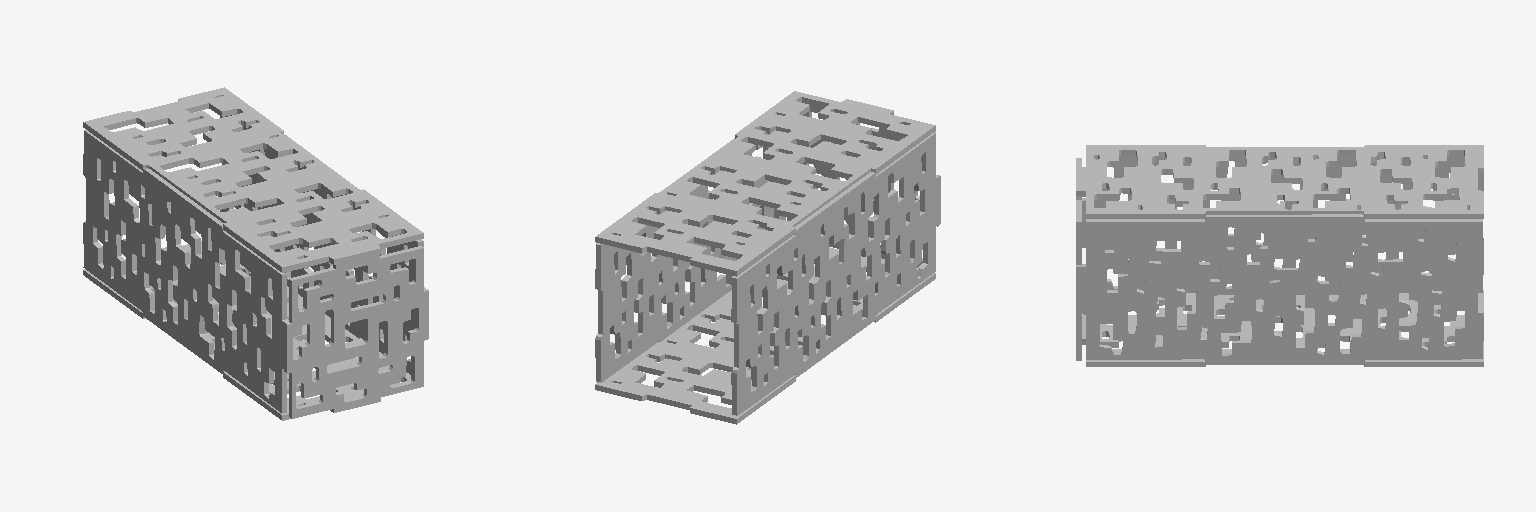
File: lampe_STI2D.obj
The picture shows the model from 3 angles: view 1: azimuth 30°, elevation 25°; view 2: azimuth 150°, elevation 25°; view 3: azimuth 270°, elevation 25°; orthographic projection.
Visible parts, largest first — view 1: Object.5, Object.3, Object.2, Object.1, Object.4; view 2: Object.5, Object.3, Object.4, Object.1, Object.2; view 3: Object.4, Object.3, Object.5, Object.1, Object.2.
Part boxes in pixels (bbox=[...]): Object.5: bbox=[83, 130, 291, 413]; Object.3: bbox=[83, 87, 423, 272]; Object.2: bbox=[284, 246, 428, 418]; Object.1: bbox=[83, 241, 410, 420]; Object.4: bbox=[220, 114, 428, 374]; Object.5: bbox=[731, 133, 940, 416]; Object.3: bbox=[595, 91, 935, 276]; Object.4: bbox=[595, 133, 801, 383]; Object.1: bbox=[595, 247, 935, 424]; Object.2: bbox=[802, 103, 940, 267]; Object.4: bbox=[1076, 214, 1483, 363]; Object.3: bbox=[1076, 145, 1483, 218]; Object.5: bbox=[1082, 156, 1483, 294]; Object.1: bbox=[1082, 293, 1483, 366]; Object.2: bbox=[1076, 158, 1081, 360].
Size of the model in its own units: 40 by 41.5 by 100.